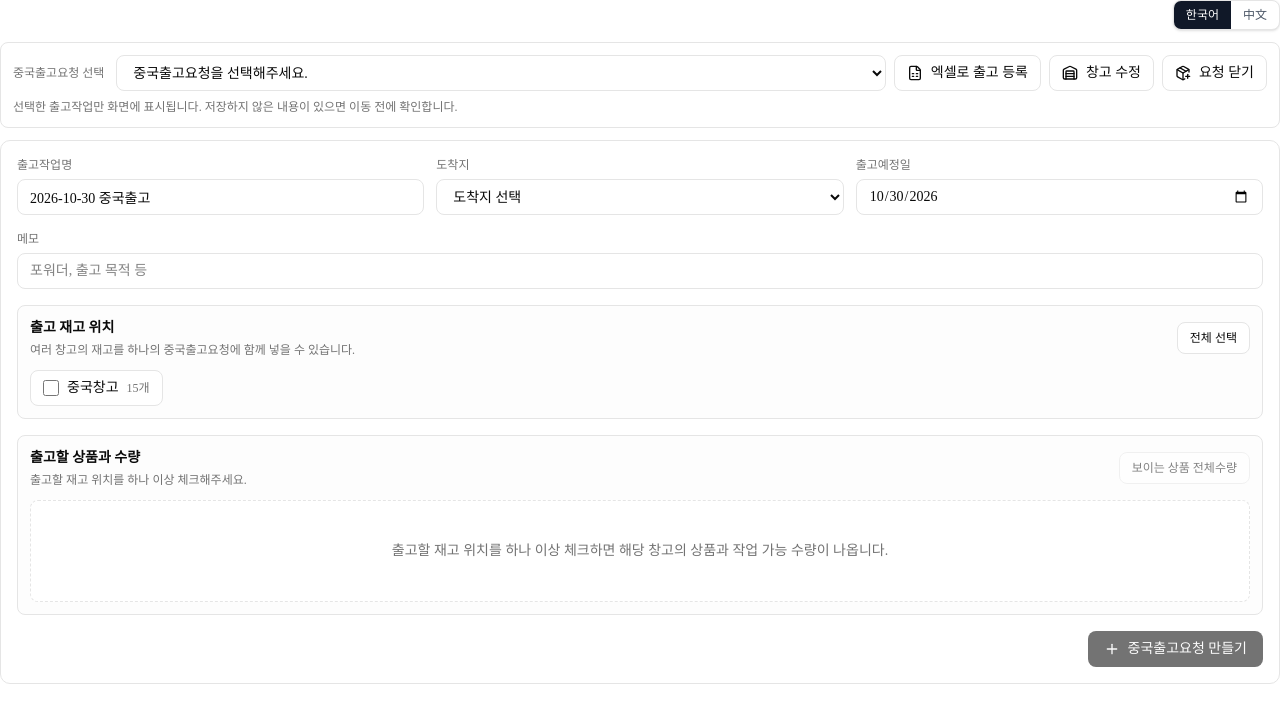
it: ChinaShipmentsBoard › translates the new China outbound request form while preserving item identity data
Click the button "中文" at (1255, 15), box [1231,1,1279,29]
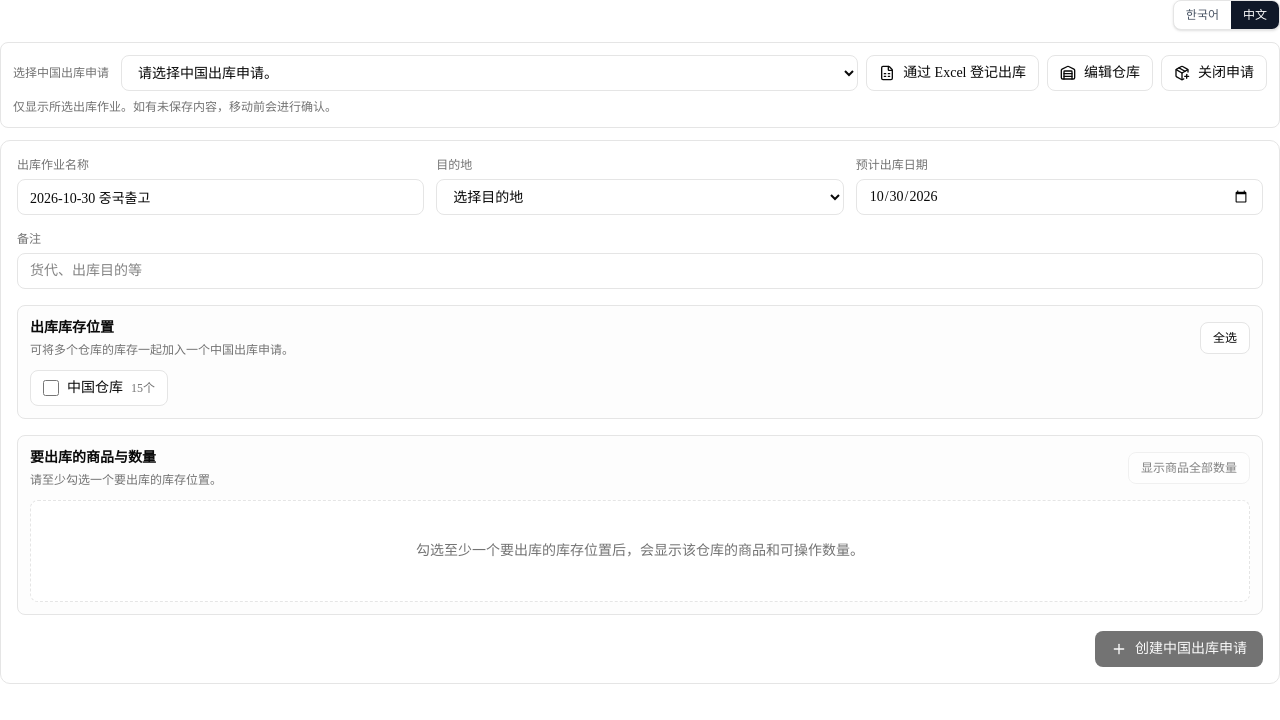
expect the button "创建中国出库申请" is shown: met, box [1095,631,1263,667]
Click the checkbox at (51, 388), box [43,380,59,396]
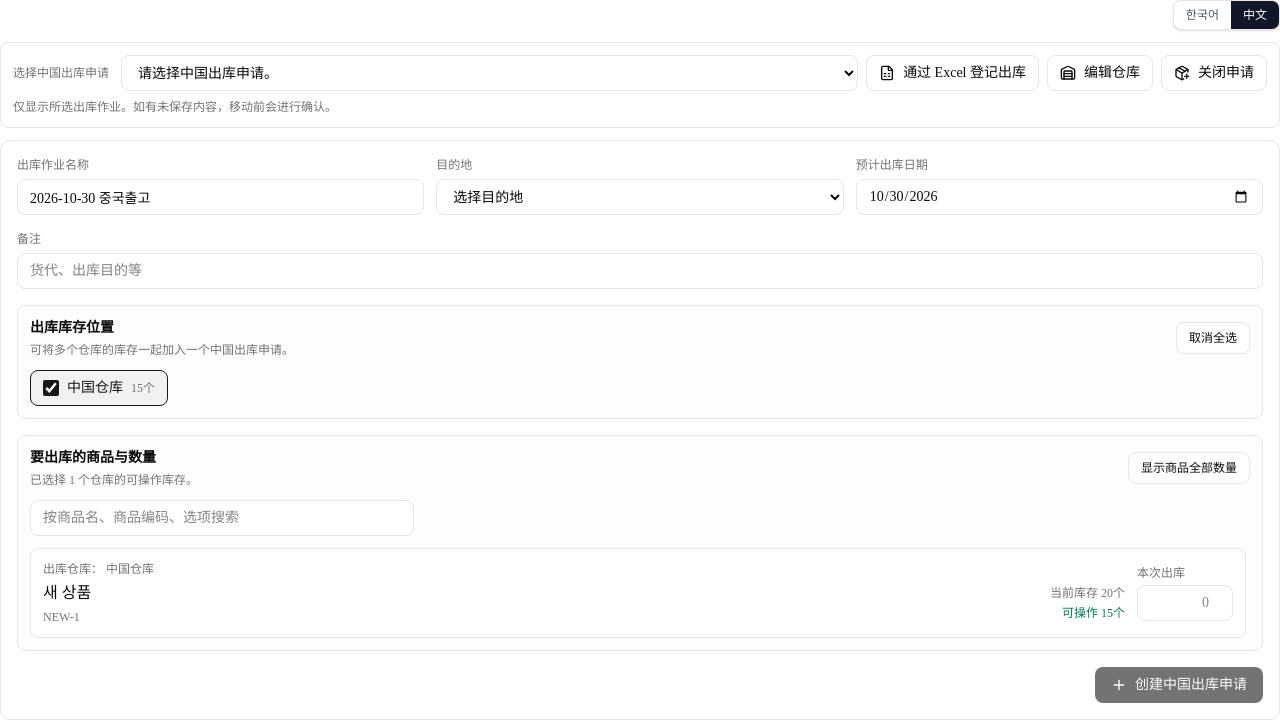
expect the text "새 상품" is shown: met, box [43,584,91,601]
expect the text "NEW-1" is shown: met, box [43,610,80,624]
